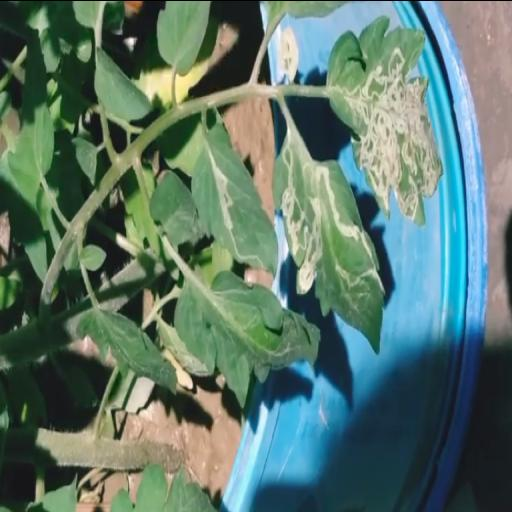Leaf Miner: (324, 12, 442, 234), (273, 138, 388, 352), (190, 120, 280, 276)
